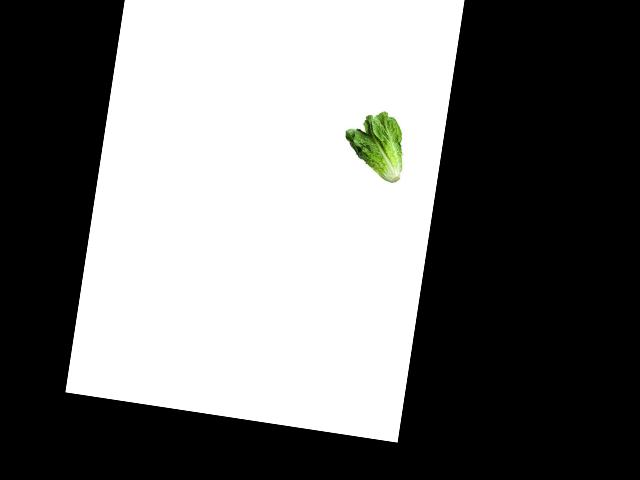lettuce: (336, 106, 413, 182)
